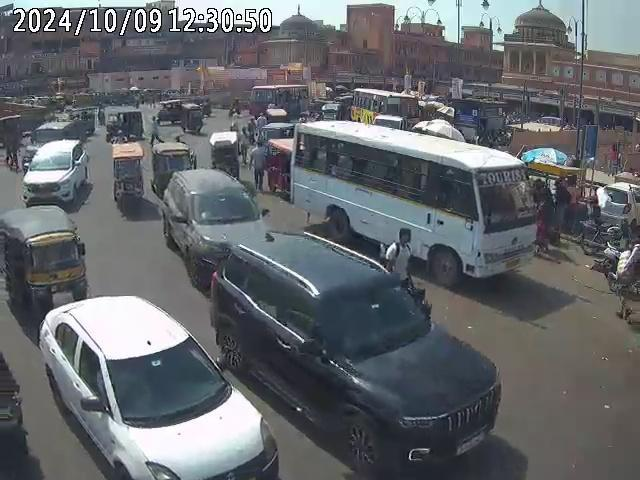auto: (0, 204, 88, 318), (110, 139, 146, 214), (150, 140, 194, 194), (207, 131, 242, 178), (103, 108, 144, 142), (180, 100, 204, 134)
bus: (289, 118, 534, 287), (248, 83, 308, 119)
car: (206, 227, 520, 475), (34, 290, 277, 479), (158, 167, 273, 288), (20, 139, 91, 208), (592, 179, 640, 232)
person: (248, 141, 269, 192)
